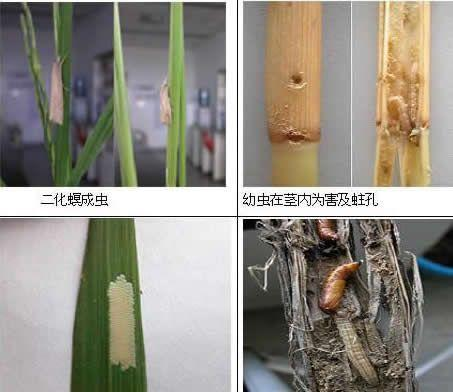Crambidae: (48, 48, 71, 130), (156, 75, 176, 129)
